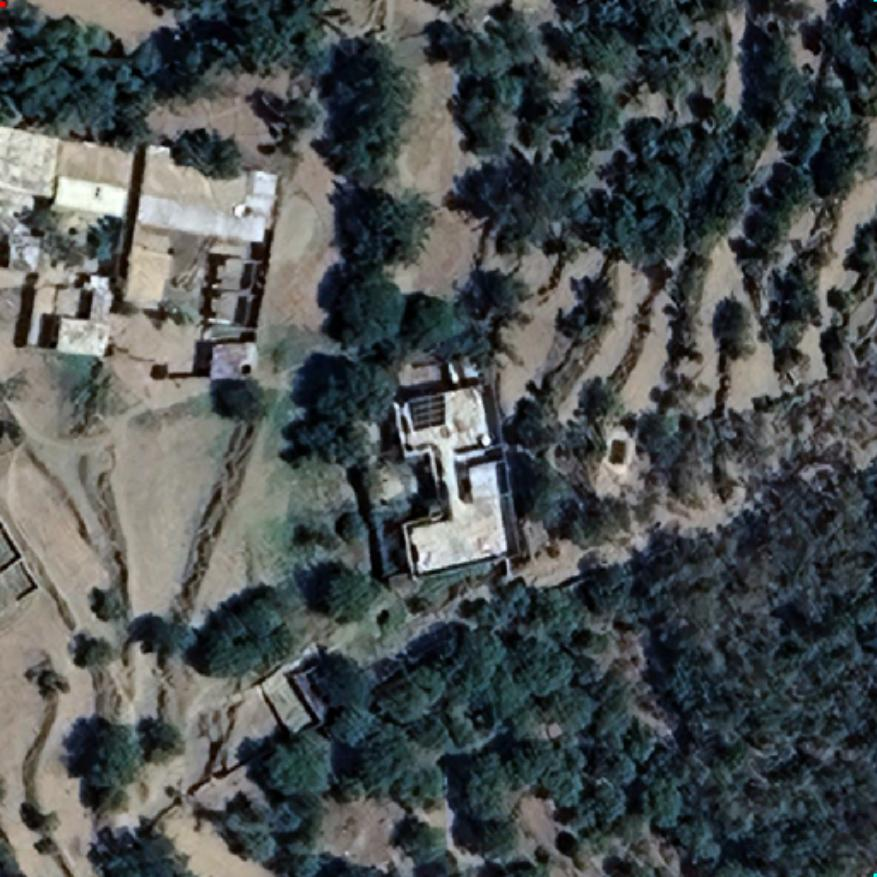Solarpanel: (407, 391, 448, 433)
